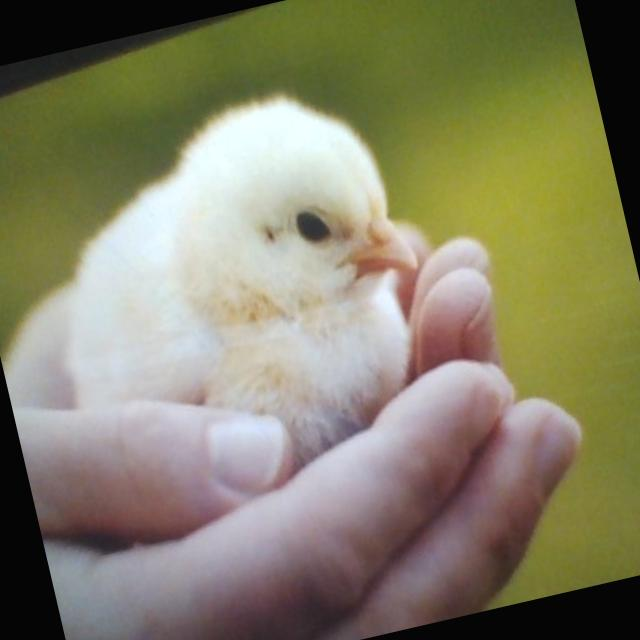Healthy: (13, 67, 470, 536)
